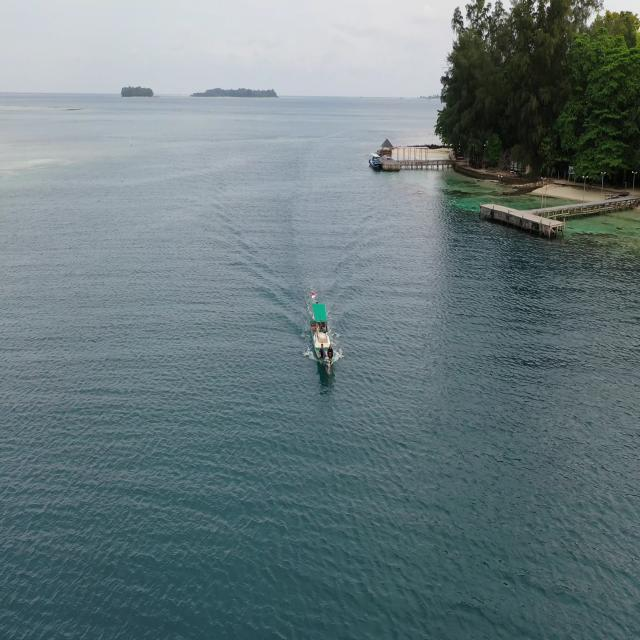ship: (304, 300, 336, 380)
